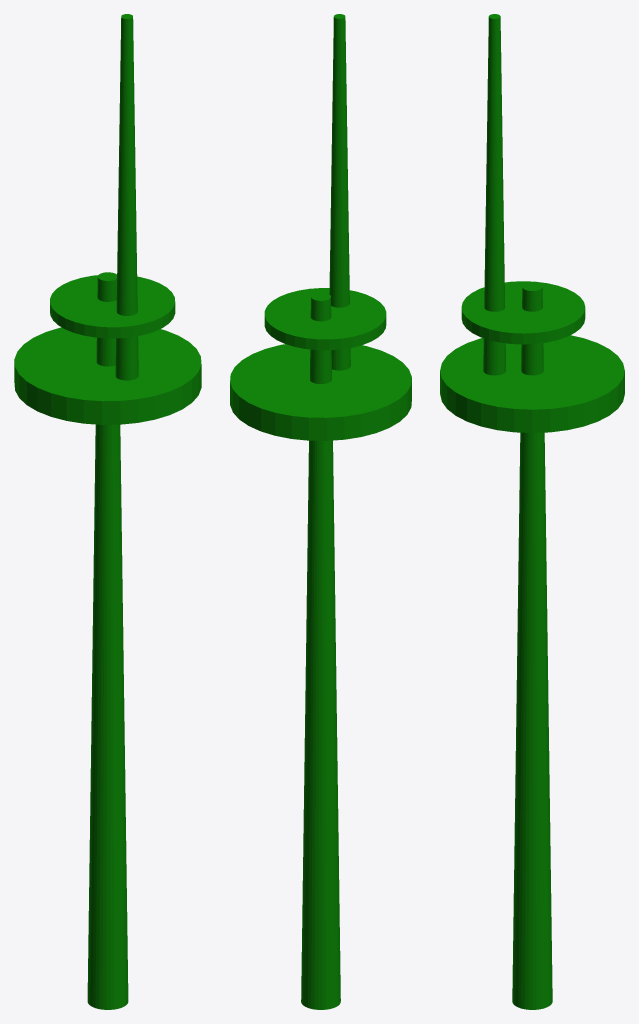
The model's file is Verde1.fbx.
3 renders of one model, left to right at view 1: azimuth 30°, elevation 25°; view 2: azimuth 150°, elevation 25°; view 3: azimuth 270°, elevation 25°, orthographic. The views are drawn at different scales.
Parts seen in each view (by area): view 1: Mastil_Verde; view 2: Mastil_Verde; view 3: Mastil_Verde.
Part boxes in pixels (bbox=[...]): Mastil_Verde: bbox=[14, 14, 201, 1009]; Mastil_Verde: bbox=[230, 14, 411, 1009]; Mastil_Verde: bbox=[440, 14, 624, 1009].
Bounding box in the file's own units: 1.19 × 7.01 × 1.19.
